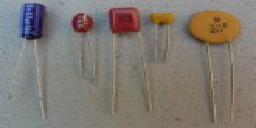Electrolytic-Capacitor: (183, 9, 243, 128), (6, 2, 56, 122), (105, 6, 149, 121), (68, 10, 101, 93), (150, 10, 181, 73)
